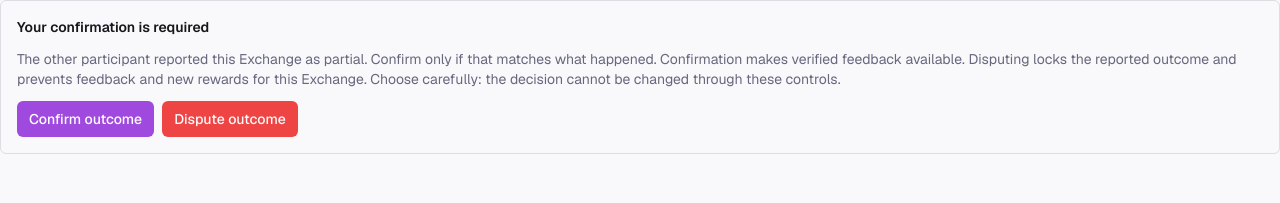
Test: ExchangeConfirmationActions › offers retry after an action rejection without exposing transport details
Click the button "Confirm outcome" at (86, 119), box x1=17 y1=101 x2=154 y2=137
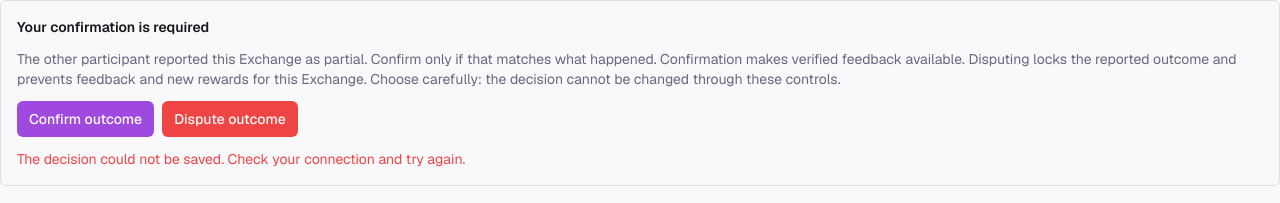
Expected: the message reads "The decision could not be saved. Check your connection and try again.", x1=17 y1=150 x2=465 y2=168
